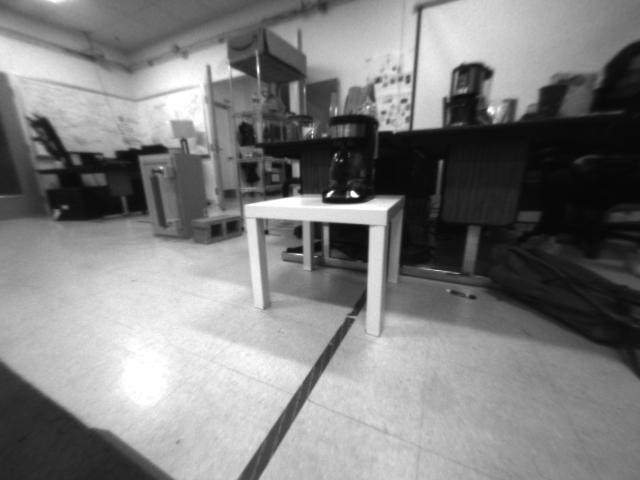coffee_pot: (323, 114, 378, 203)
